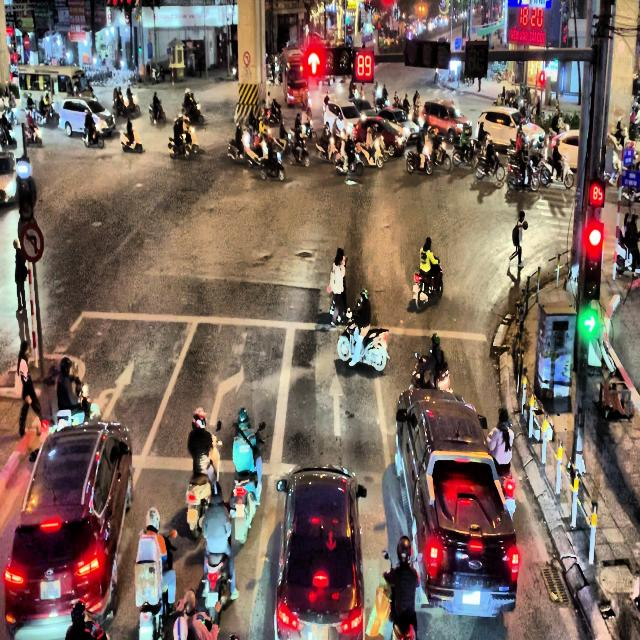lisence_plate: (39, 577, 62, 601), (462, 589, 482, 607), (310, 622, 330, 639)
